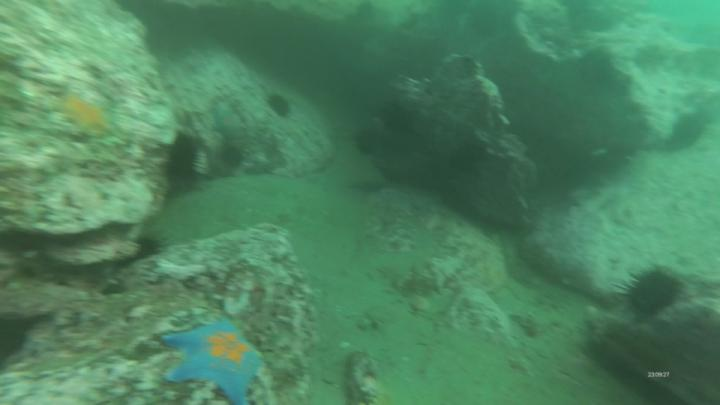echinus: (626, 265, 687, 319), (357, 126, 378, 156), (268, 90, 290, 118)
starfish: (160, 319, 266, 405), (211, 104, 244, 142)
